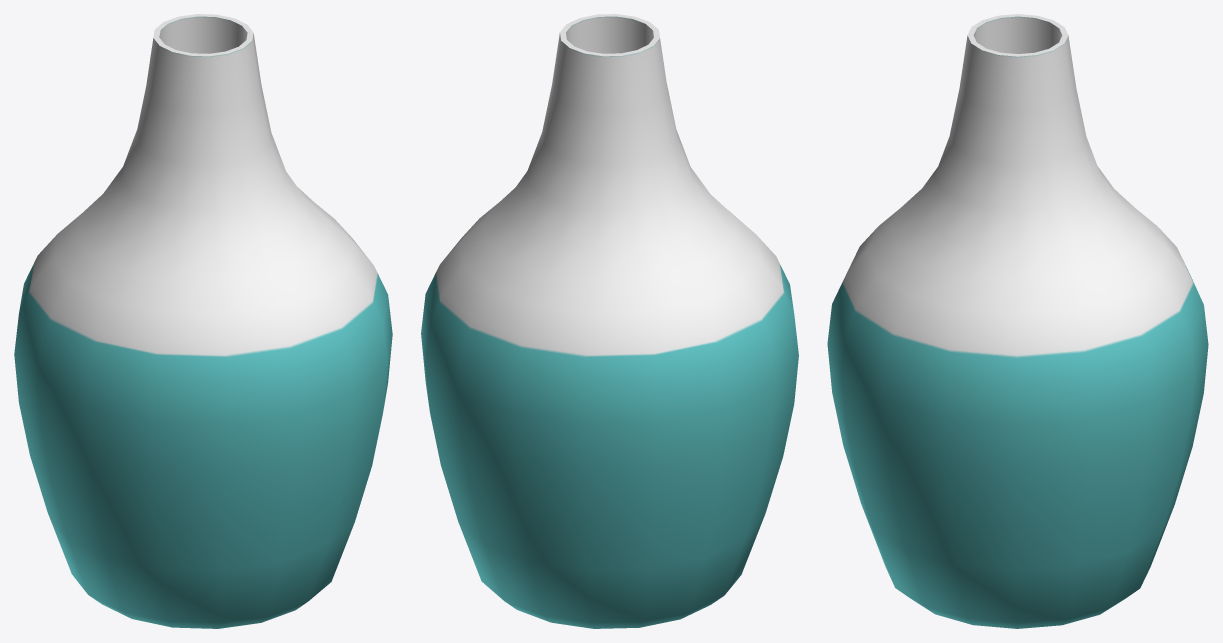
The model's file is Vase.FBX.
The picture shows the model from 3 angles, left to right: view 1: azimuth 30°, elevation 25°; view 2: azimuth 150°, elevation 25°; view 3: azimuth 270°, elevation 25°; orthographic projection.
Parts seen in each view (by area): view 1: Vase; view 2: Vase; view 3: Vase.
Boxes of the visible parts, x1,y1,x2,y2 form: Vase: [14, 14, 392, 628]; Vase: [421, 14, 798, 628]; Vase: [827, 14, 1208, 628].
Bounding box in the file's own units: 15.2 × 23.96 × 15.2.
Materials: 1 (1 with a texture image).
